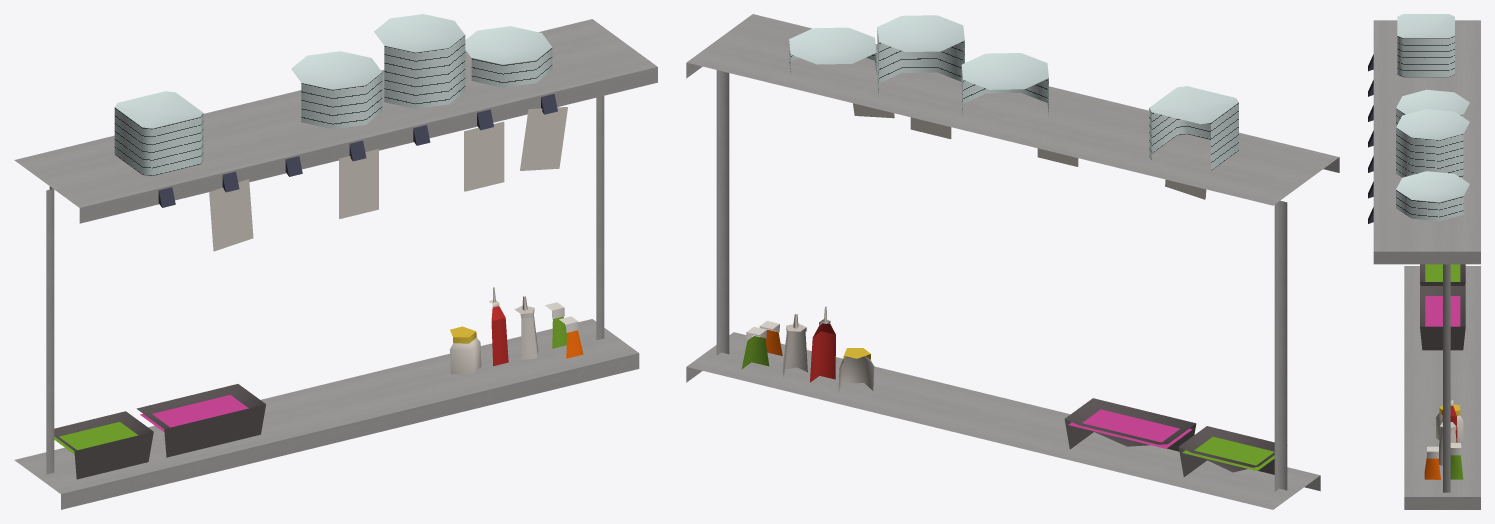
File: interior_B_009.fbx
3 renders of one model, left to right at view 1: azimuth 30°, elevation 25°; view 2: azimuth 150°, elevation 25°; view 3: azimuth 270°, elevation 25°, orthographic. The views are drawn at different scales.
Parts seen in each view (by area): view 1: interior_B_009; view 2: interior_B_009; view 3: interior_B_009.
Boxes of the visible parts, box(x1,y1,x2,y2) form: interior_B_009: box(14, 14, 657, 509); interior_B_009: box(686, 14, 1339, 509); interior_B_009: box(1368, 14, 1480, 509).
Bounding box in the file's own units: 257 × 158 × 53.09.
